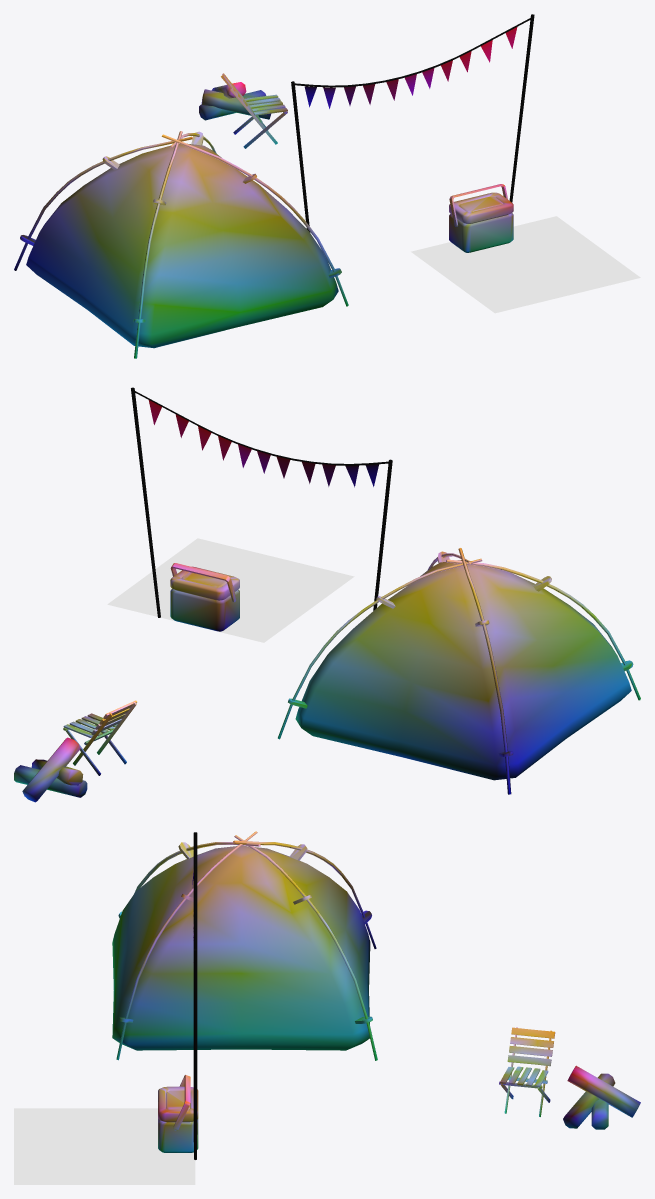
File: Props.fbx
3 views of the same model, one above another, from view 1: azimuth 30°, elevation 25°; view 2: azimuth 150°, elevation 25°; view 3: azimuth 270°, elevation 25° (orthographic). The views are drawn at different scales.
Parts seen in each view (by area): view 1: Tent, Plane, Cooler, Banner, Logs, Chair; view 2: Tent, Plane, Banner, Cooler, Logs, Chair; view 3: Tent, Plane, Logs, Cooler, Chair, Banner.
Part boxes in pixels (x1,y1,x2,y2): Tent: (14,131,348,358); Plane: (411,216,640,313); Cooler: (449,184,513,252); Banner: (291,14,534,232); Logs: (199,82,270,120); Chair: (221,73,287,148); Tent: (278,548,640,794); Plane: (107,538,354,642); Banner: (131,387,392,617); Cooler: (170,563,239,631); Logs: (14,737,87,802); Chair: (63,700,136,775); Tent: (112,831,377,1060); Plane: (14,1108,195,1184); Logs: (563,1065,640,1129); Cooler: (158,1075,198,1152); Chair: (499,1027,555,1116); Banner: (192,832,197,1159).
Size of the model in its own units: 943 by 415 by 1036.
